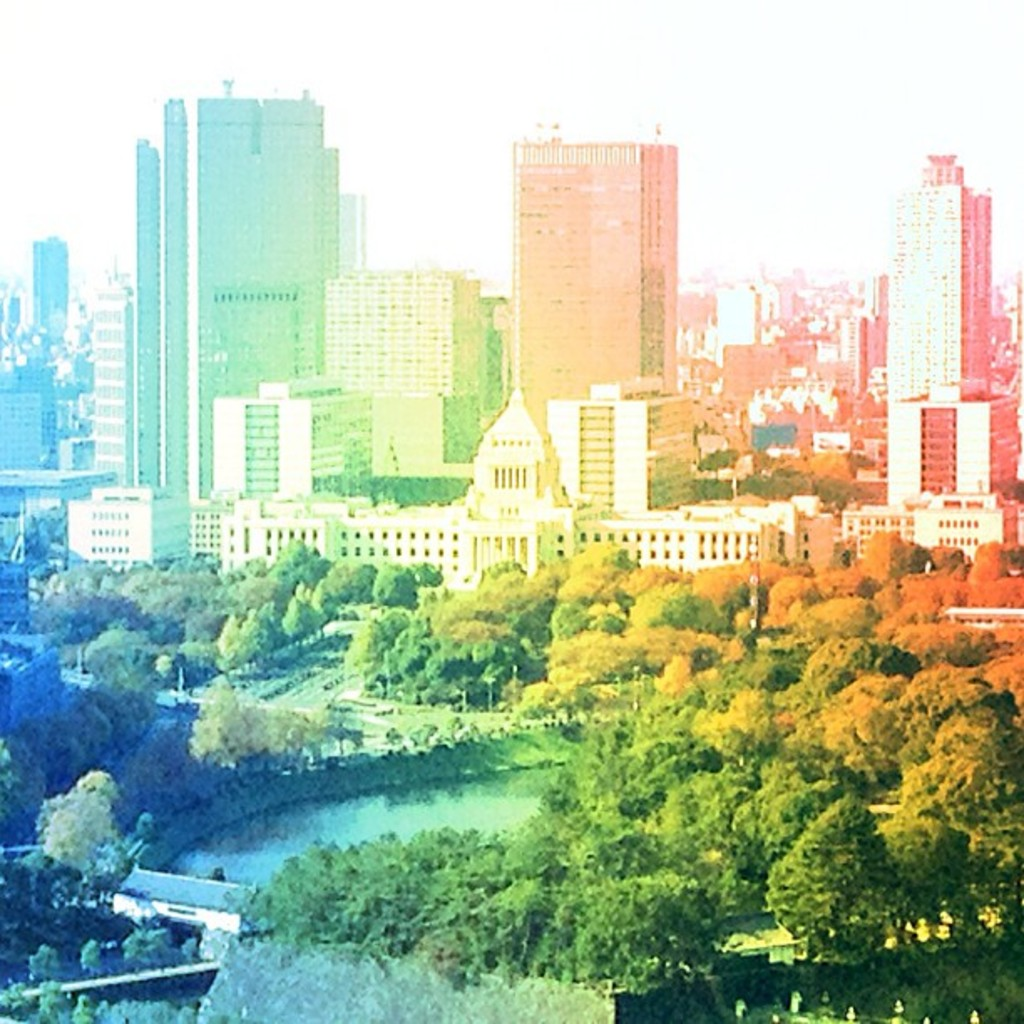Tree: (0, 520, 1022, 1002)
